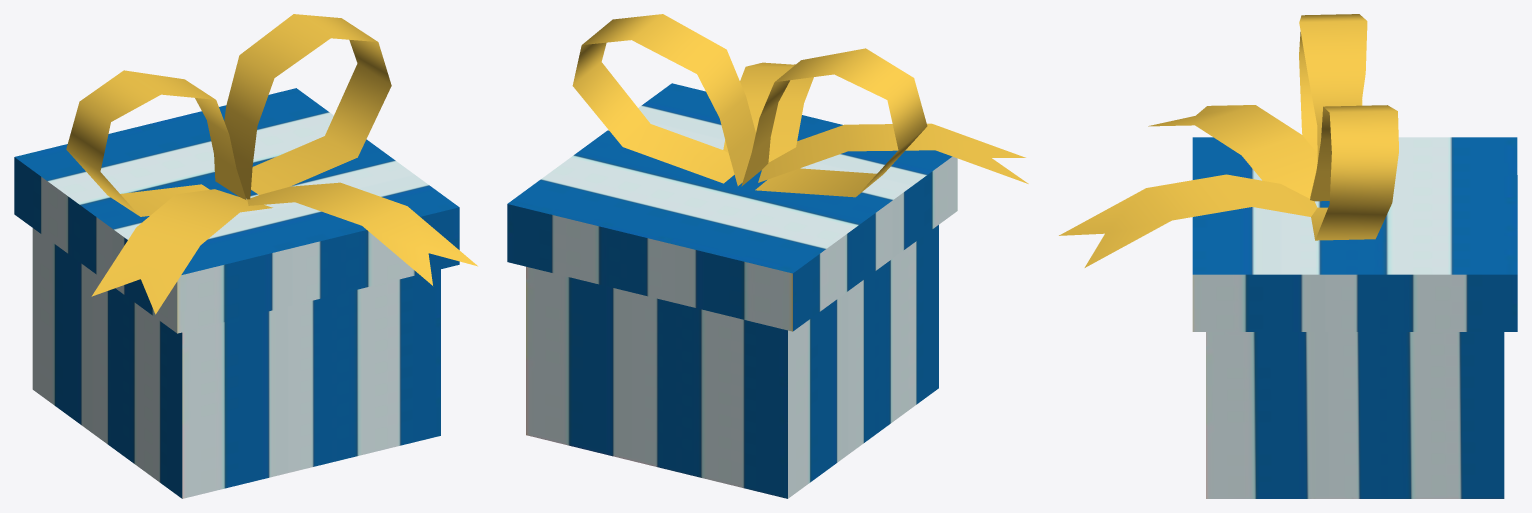
The model's file is present03.glb.
3 views of the same model, side by side, from view 1: azimuth 30°, elevation 25°; view 2: azimuth 150°, elevation 25°; view 3: azimuth 270°, elevation 25° (orthographic).
Parts seen in each view (by area): view 1: Present03; view 2: Present03; view 3: Present03.
Boxes of the visible parts, x1,y1,x2,y2 form: Present03: (14,14,477,498); Present03: (507,14,1028,498); Present03: (1059,14,1517,498).
Size of the model in its own units: 1.45 by 1.39 by 1.6.
1 material, 1 textured.
